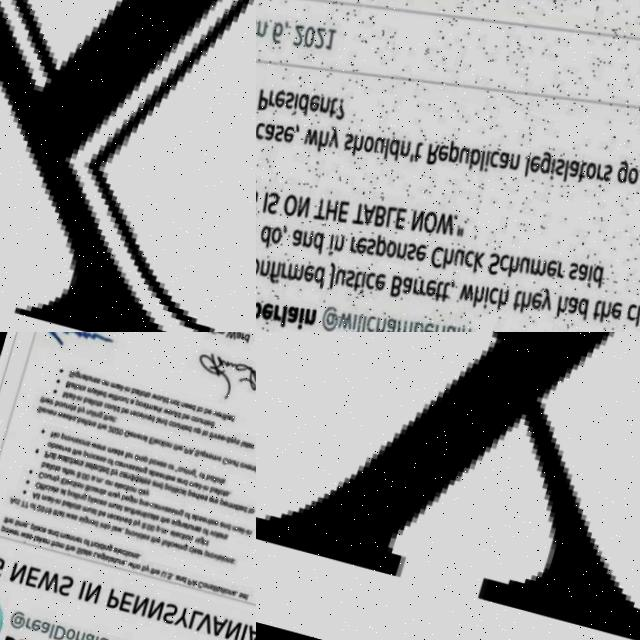0: (300, 22, 318, 48), (148, 521, 155, 529), (119, 426, 126, 434), (152, 522, 158, 531), (42, 503, 48, 511), (112, 424, 118, 432), (87, 472, 92, 479), (84, 471, 89, 478)
1: (321, 25, 339, 51), (47, 505, 51, 512)
2: (289, 21, 307, 47), (310, 25, 329, 49), (115, 425, 122, 434), (109, 424, 114, 432), (39, 503, 44, 510)
6: (267, 18, 286, 44)
7: (27, 498, 33, 507), (23, 498, 29, 506)
8: (144, 519, 150, 528), (78, 469, 84, 478)
9: (49, 505, 56, 513)
K: (0, 0, 256, 332)
X: (256, 332, 640, 640)
